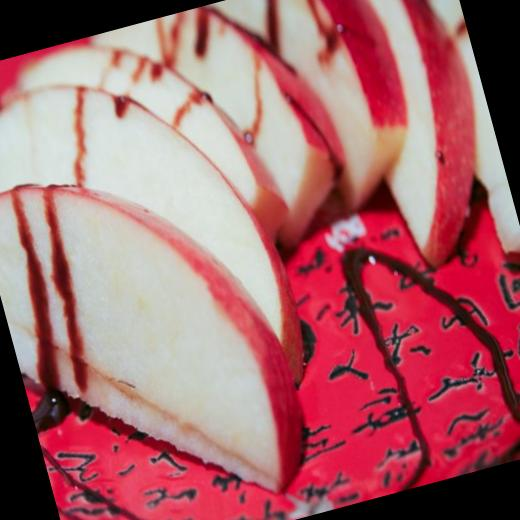Apple: (0, 0, 520, 458), (11, 146, 325, 520)
